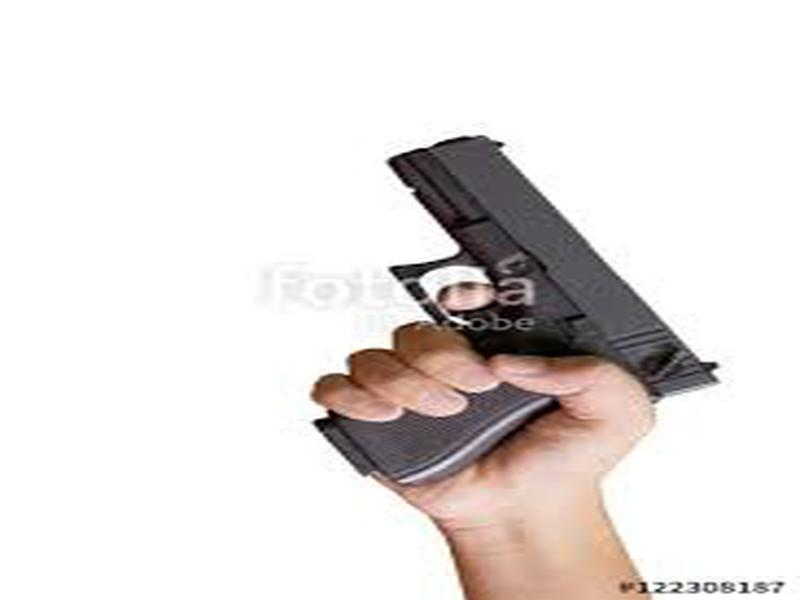gun: (305, 127, 723, 552)
